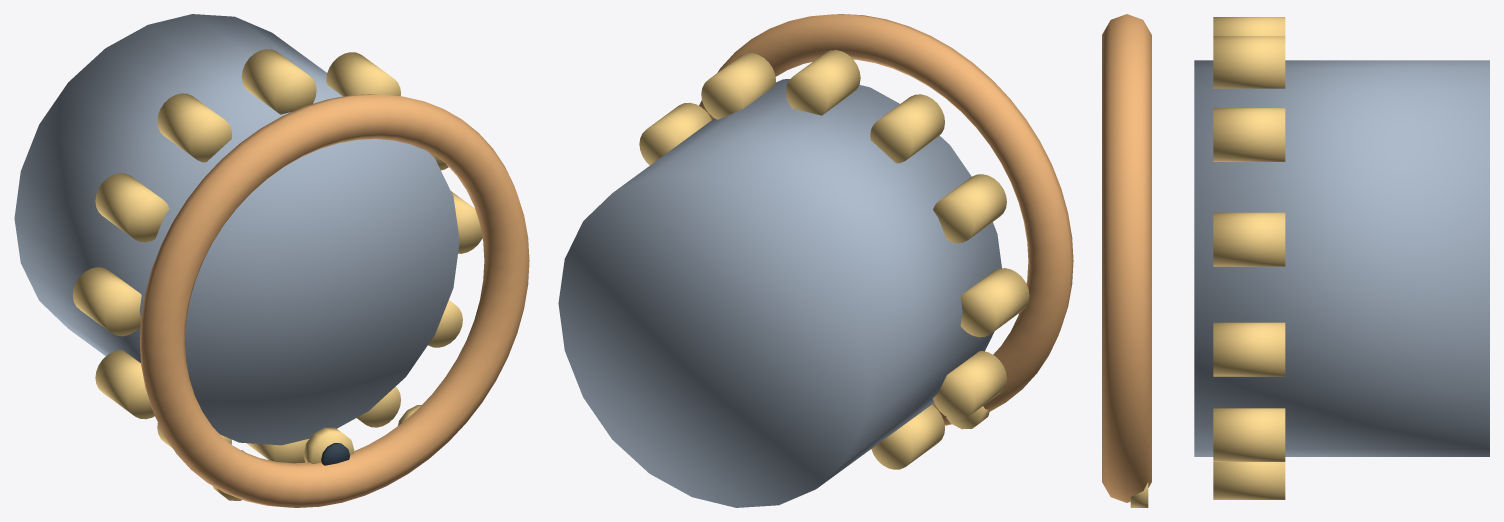
File: 37_L90_XenonAnodeDistributor.fbx
3 views of the same model, side by side, from view 1: azimuth 30°, elevation 25°; view 2: azimuth 150°, elevation 25°; view 3: azimuth 270°, elevation 25° (orthographic). The views are drawn at different scales.
Parts seen in each view (by area): view 1: L90_XenonAnodeDistributor, L90_XenonAnodeDistributor_Part_0002, L90_XenonAnodeDistributor_Part_0005; view 2: L90_XenonAnodeDistributor, L90_XenonAnodeDistributor_Part_0002; view 3: L90_XenonAnodeDistributor, L90_XenonAnodeDistributor_Part_0002.
Part boxes in pixels (left/top/right/bottom): L90_XenonAnodeDistributor: left=14, top=14, right=482, bottom=463; L90_XenonAnodeDistributor_Part_0002: left=139, top=94, right=529, bottom=507; L90_XenonAnodeDistributor_Part_0005: left=303, top=427, right=354, bottom=463; L90_XenonAnodeDistributor: left=558, top=50, right=1029, bottom=507; L90_XenonAnodeDistributor_Part_0002: left=699, top=14, right=1073, bottom=425; L90_XenonAnodeDistributor: left=1194, top=17, right=1489, bottom=499; L90_XenonAnodeDistributor_Part_0002: left=1102, top=14, right=1151, bottom=502.
Size of the model in its own units: 1.16 by 1.16 by 0.9191.
